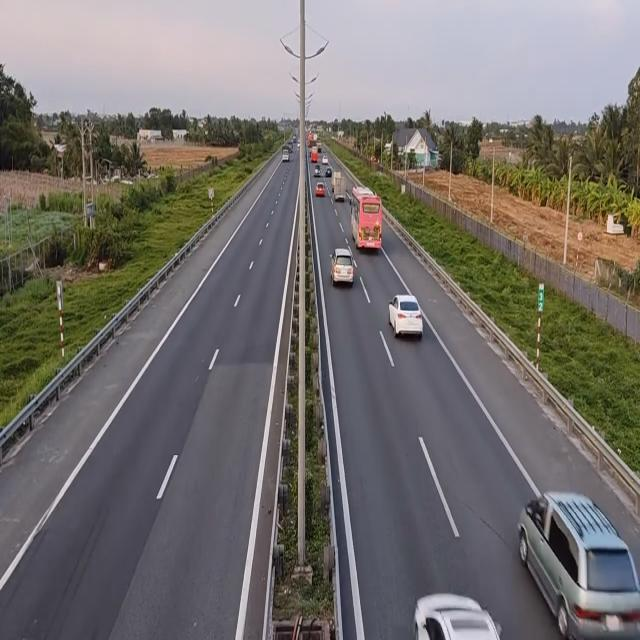bus: (350, 187, 382, 252)
car: (514, 492, 639, 640), (411, 592, 509, 640), (387, 293, 423, 341), (331, 247, 357, 289), (314, 177, 326, 197)
